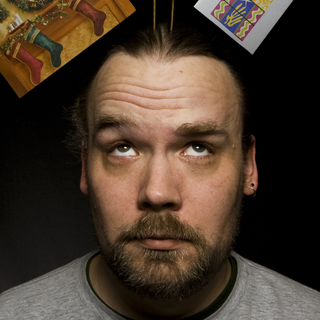eye: (176, 140, 219, 163), (101, 141, 143, 161)
